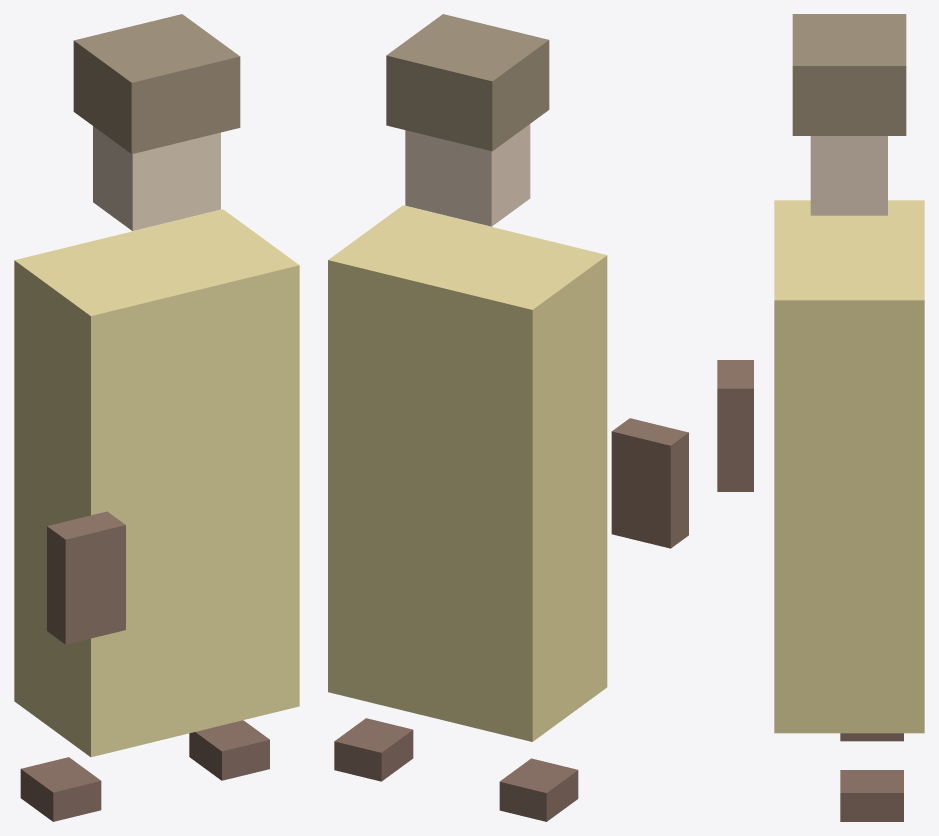
Rendered from market-vendor.glb.
3 views of the same model, side by side, from view 1: azimuth 30°, elevation 25°; view 2: azimuth 150°, elevation 25°; view 3: azimuth 270°, elevation 25° (orthographic). The views are drawn at different scales.
Visible parts, largest first — view 1: MerchantRobe, MerchantTurban, Head, MerchantBag, SandalsLeft, SandalsRight; view 2: MerchantRobe, MerchantTurban, Head, MerchantBag, SandalsLeft, SandalsRight; view 3: MerchantRobe, MerchantTurban, Head, MerchantBag, SandalsRight, SandalsLeft.
Boxes of the visible parts, left/top/right/bottom form: MerchantRobe: left=14, top=209, right=299, bottom=757; MerchantTurban: left=73, top=14, right=240, bottom=153; Head: left=93, top=126, right=220, bottom=230; MerchantBag: left=47, top=511, right=125, bottom=644; SandalsLeft: left=20, top=757, right=101, bottom=821; SandalsRight: left=189, top=720, right=269, bottom=780; MerchantRobe: left=328, top=205, right=607, bottom=741; MerchantTurban: left=386, top=14, right=549, bottom=151; Head: left=405, top=124, right=530, bottom=226; MerchantBag: left=611, top=418, right=688, bottom=548; SandalsLeft: left=499, top=758, right=578, bottom=821; SandalsRight: left=334, top=718, right=413, bottom=781; MerchantRobe: left=774, top=200, right=924, bottom=733; MerchantTurban: left=792, top=14, right=906, bottom=135; Head: left=810, top=136, right=887, bottom=215; MerchantBag: left=717, top=360, right=753, bottom=491; SandalsRight: left=840, top=770, right=903, bottom=821; SandalsLeft: left=840, top=733, right=903, bottom=741.
Bounding box in the file's own units: 0.665 × 1.77 × 0.455.
